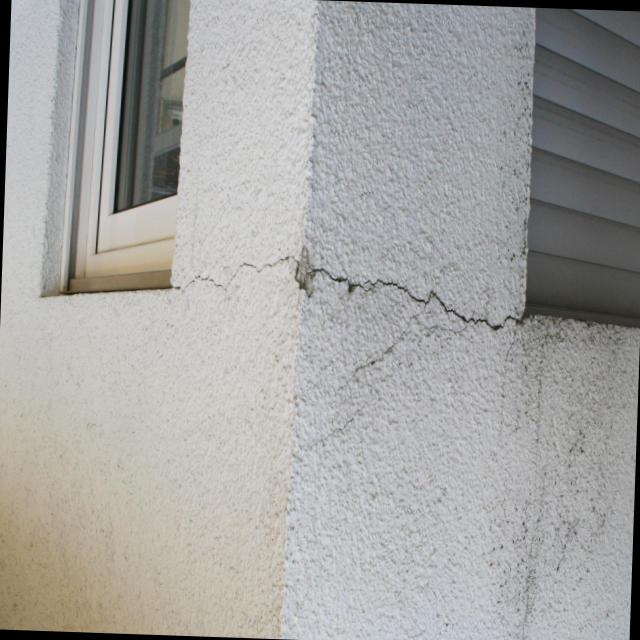crack: (178, 252, 530, 394)
